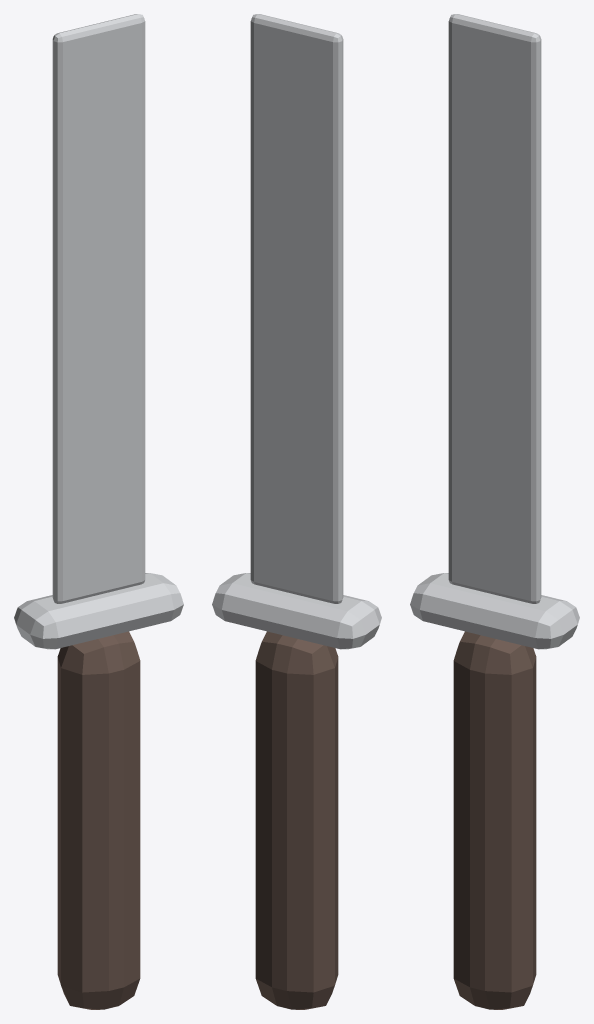
Rendered from knife.glb.
3 renders of one model, left to right at view 1: azimuth 30°, elevation 25°; view 2: azimuth 150°, elevation 25°; view 3: azimuth 330°, elevation 25°, orthographic.
Visible parts, largest first — view 1: knife; view 2: knife; view 3: knife.
Boxes of the visible parts, left/top/right/bottom form: knife: left=14, top=14, right=183, bottom=1009; knife: left=212, top=14, right=381, bottom=1009; knife: left=410, top=14, right=579, bottom=1009.
Bounding box in the file's own units: 0.05 × 0.31 × 0.02.
